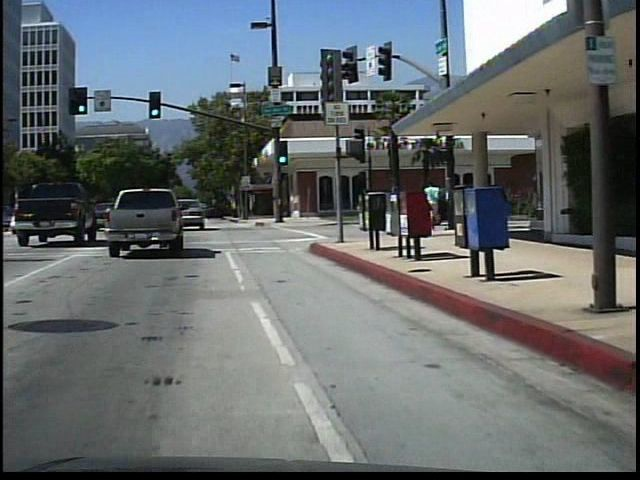person: (428, 178, 444, 234)
